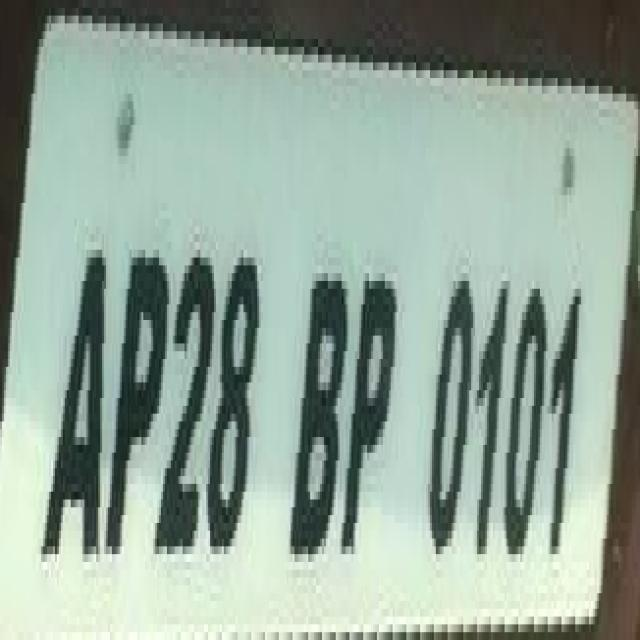license_plate: (21, 15, 640, 640)
